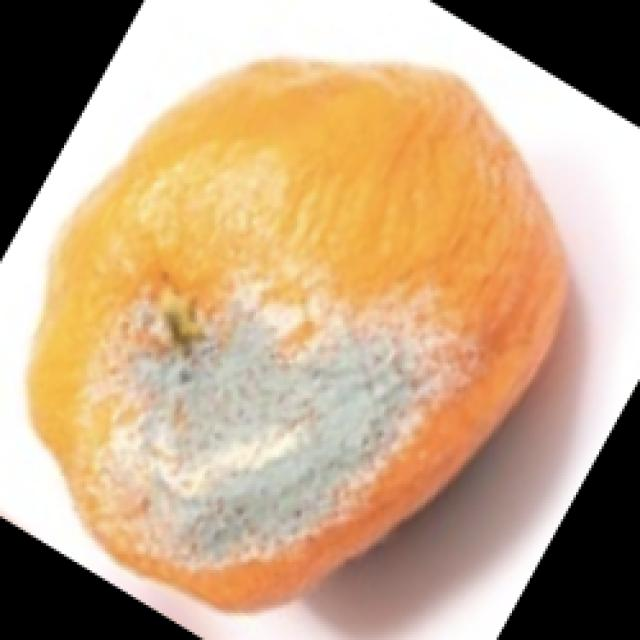sedikit_busuk: (30, 72, 558, 610)
